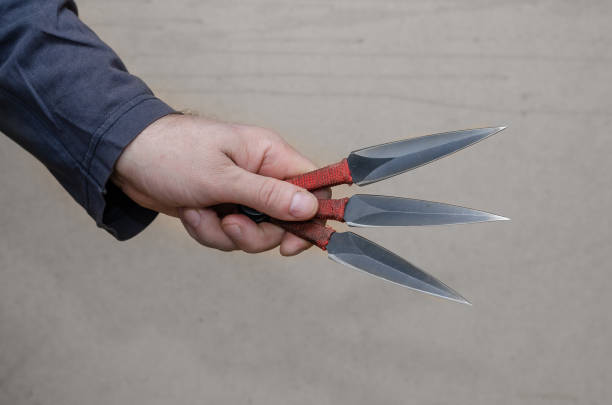knife: (238, 204, 475, 309), (236, 124, 514, 193), (315, 193, 513, 231)
